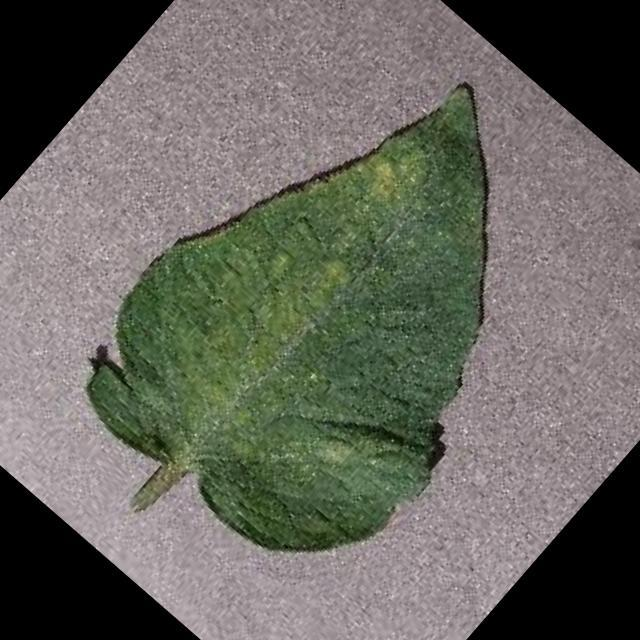Tomato spider mites leaf: (50, 1, 640, 613)
